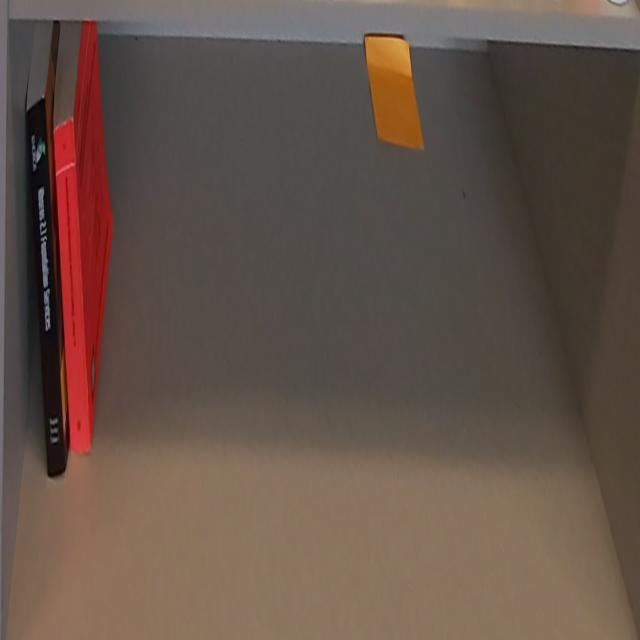Book Spine: (27, 97, 66, 477), (54, 118, 90, 456)
